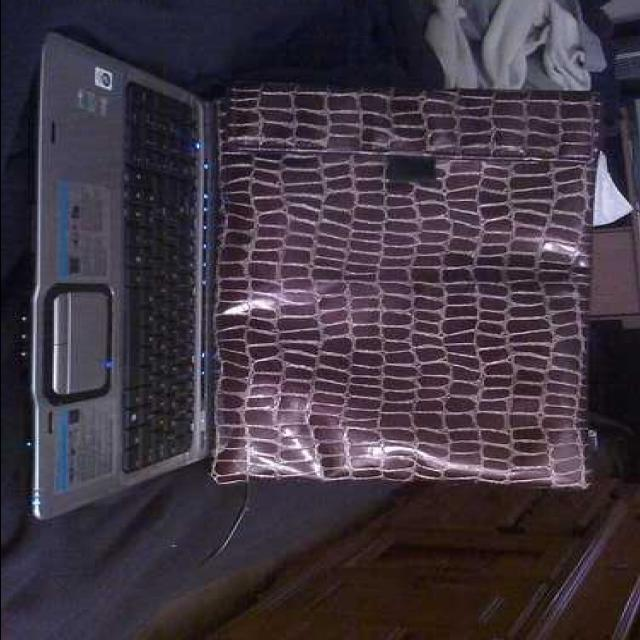laptop: (33, 24, 200, 474)
